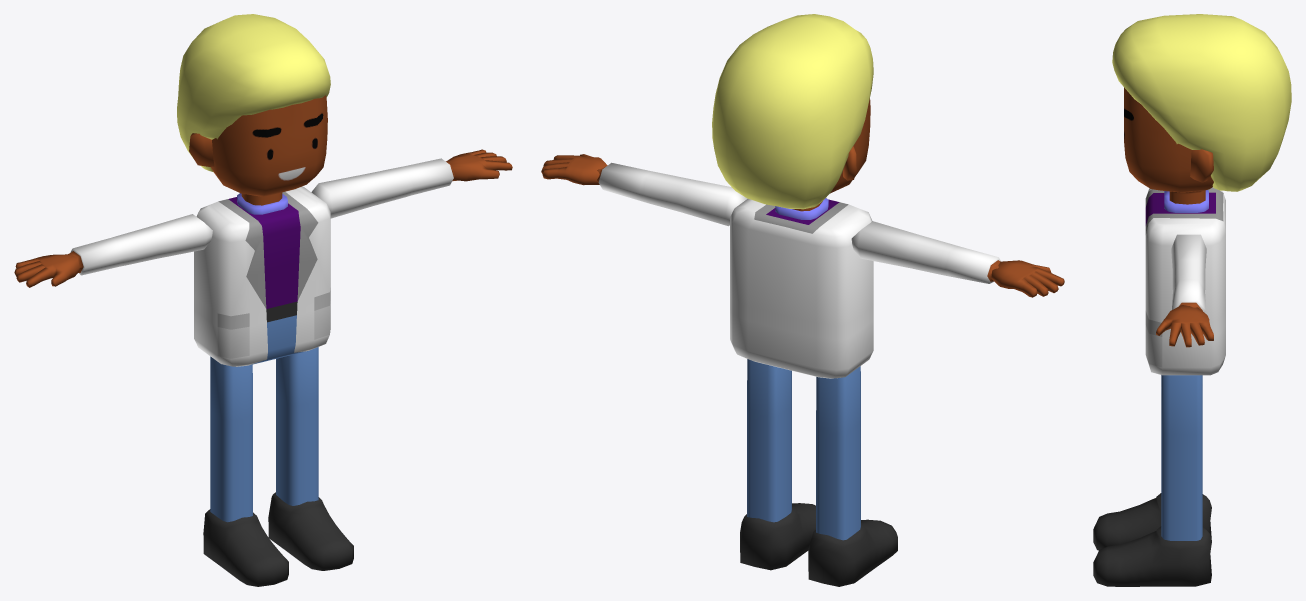
Rendered from NPC_Yellow01_BlondeHair05.gltf.
3 renders of one model, left to right at view 1: azimuth 30°, elevation 25°; view 2: azimuth 150°, elevation 25°; view 3: azimuth 270°, elevation 25°, orthographic. The views are drawn at different scales.
Parts seen in each view (by area): view 1: NPC_Corpo_Yellow1_BlondeHair.005; view 2: NPC_Corpo_Yellow1_BlondeHair.005; view 3: NPC_Corpo_Yellow1_BlondeHair.005.
Part boxes in pixels (left/top/right/bottom): NPC_Corpo_Yellow1_BlondeHair.005: left=14, top=14, right=512, bottom=586; NPC_Corpo_Yellow1_BlondeHair.005: left=541, top=14, right=1064, bottom=586; NPC_Corpo_Yellow1_BlondeHair.005: left=1093, top=14, right=1291, bottom=586.
Size of the model in its own units: 2.31 by 2.3 by 0.7742.
Materials: 1 (1 with a texture image).
